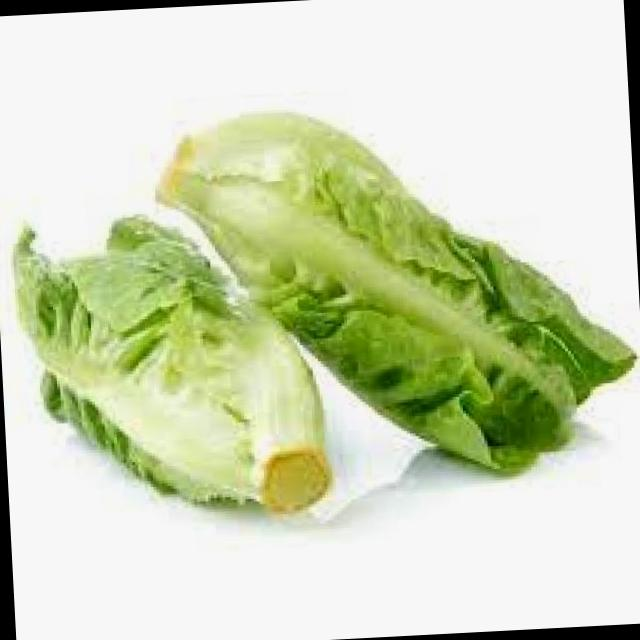Lettuce-Ready-to-Harvest: (162, 114, 635, 472), (15, 218, 331, 511)
